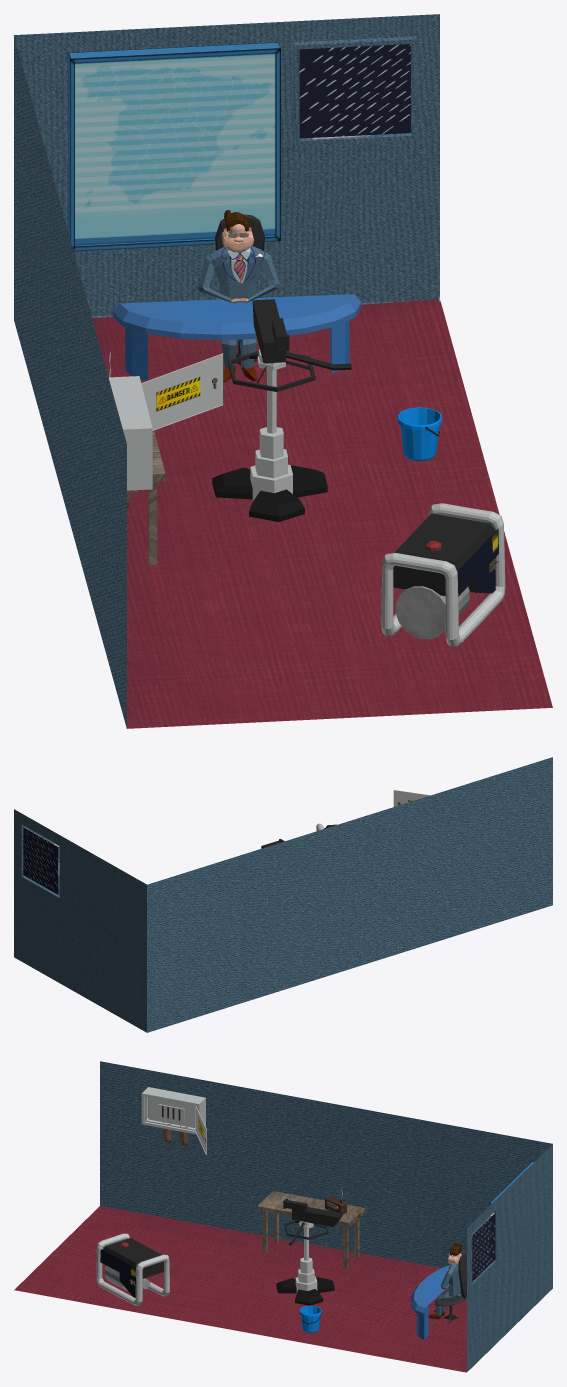
The model's file is tvstudio_0.3.fbx.
3 renders of one model, top to bottom at view 1: azimuth 30°, elevation 25°; view 2: azimuth 150°, elevation 25°; view 3: azimuth 270°, elevation 25°, orthographic. The views are drawn at different scales.
Visible parts, largest first — view 1: STUDIO, MAPS, GENERATOR, MESA, CAMERA, FUSEBOX, CUERPO, BUCKET, WOOD TABLE; view 2: STUDIO, FUSEBOX; view 3: STUDIO, GENERATOR, FUSEBOX, CAMERA, WOOD TABLE, MESA, CUERPO, SILLA, BUCKET.
Boxes of the visible parts, x1,y1,x2,y2 form: STUDIO: (14, 14, 552, 728); MAPS: (68, 42, 280, 251); GENERATOR: (381, 503, 505, 646); MESA: (113, 294, 360, 380); CAMERA: (212, 299, 351, 521); FUSEBOX: (108, 353, 223, 508); CUERPO: (197, 224, 279, 382); BUCKET: (397, 407, 442, 460); WOOD TABLE: (131, 430, 165, 565); STUDIO: (14, 757, 552, 1032); FUSEBOX: (393, 790, 430, 806); STUDIO: (14, 1061, 552, 1372); GENERATOR: (96, 1233, 169, 1305); FUSEBOX: (141, 1087, 206, 1155); CAMERA: (276, 1198, 343, 1305); WOOD TABLE: (257, 1191, 365, 1268); MESA: (410, 1265, 466, 1339); CUERPO: (428, 1253, 461, 1319); SILLA: (435, 1252, 466, 1322); BUCKET: (299, 1305, 321, 1332).
Size of the model in its own units: 773 by 1054 by 312.
Materials: 12 (12 with a texture image).
